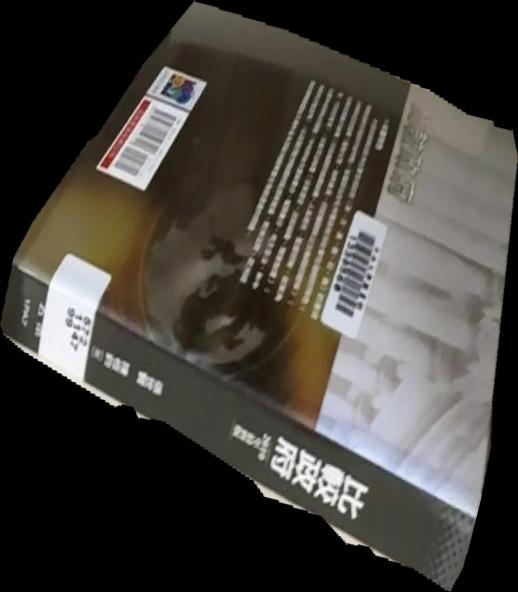flat: (1, 1, 518, 592)
